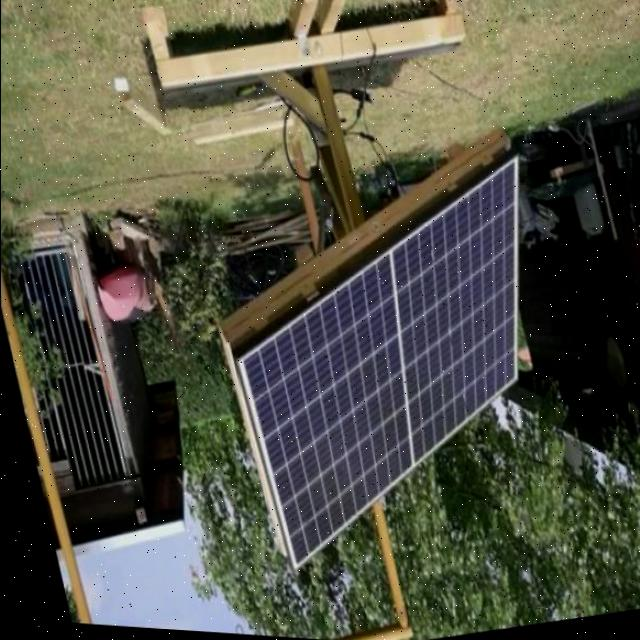Normal Solar Panel: (200, 141, 596, 589)
